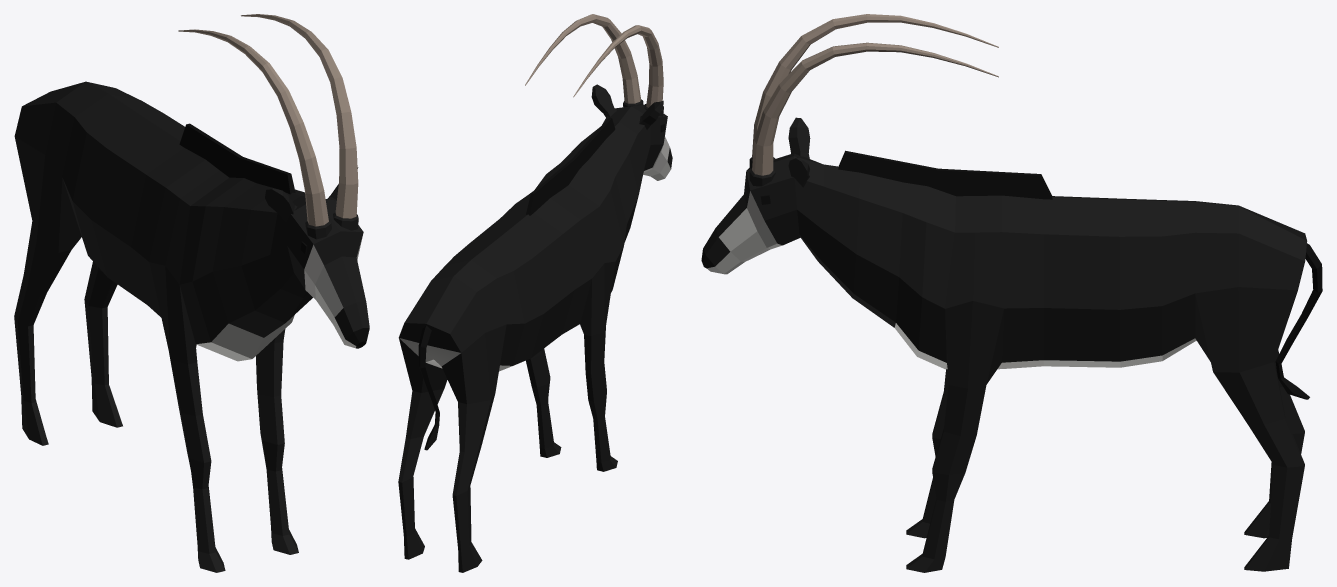
File: antelope.glb
3 views of the same model, side by side, from view 1: azimuth 30°, elevation 25°; view 2: azimuth 150°, elevation 25°; view 3: azimuth 270°, elevation 25° (orthographic). The views are drawn at different scales.
Parts seen in each view (by area): view 1: Geo_Antelope; view 2: Geo_Antelope; view 3: Geo_Antelope.
Boxes of the visible parts, x1,y1,x2,y2 form: Geo_Antelope: (14, 14, 369, 572); Geo_Antelope: (398, 14, 672, 572); Geo_Antelope: (701, 14, 1322, 572).
Bounding box in the file's own units: 35.61 × 158 × 170.
